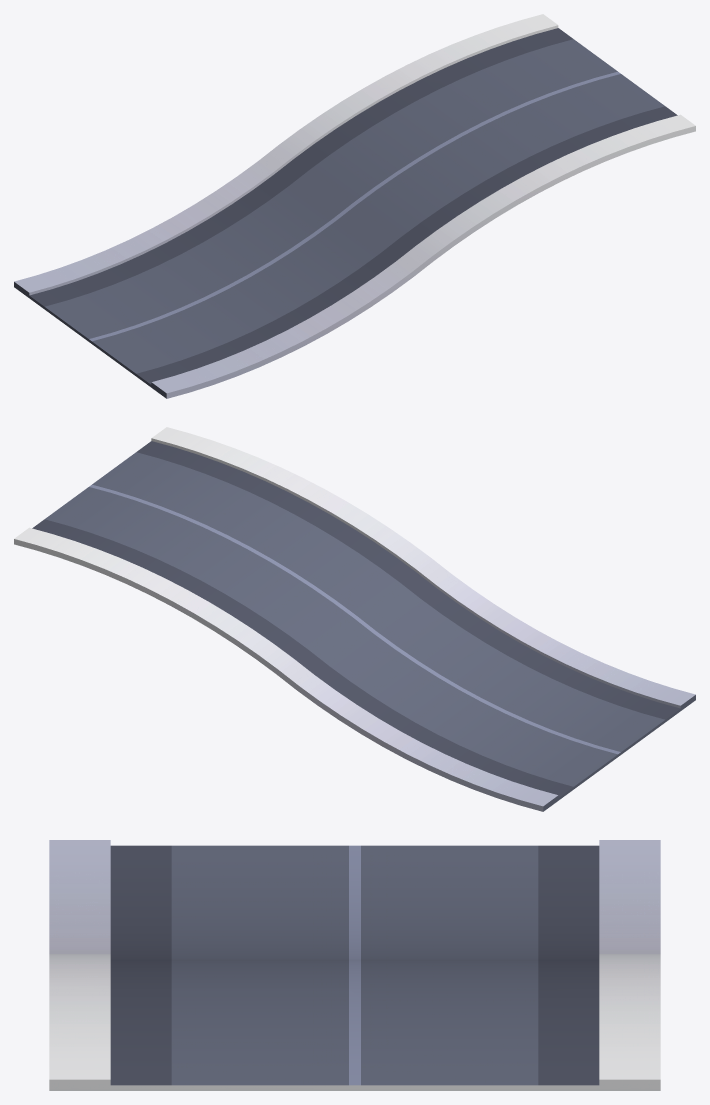
Rendered from road-slant-flat-curve.glb.
The picture shows the model from 3 angles, top to bottom: view 1: azimuth 30°, elevation 25°; view 2: azimuth 150°, elevation 25°; view 3: azimuth 270°, elevation 25°; orthographic projection. The views are drawn at different scales.
Parts seen in each view (by area): view 1: road-slant-flat-curve; view 2: road-slant-flat-curve; view 3: road-slant-flat-curve.
Part boxes in pixels (<box>): road-slant-flat-curve: <box>14,14,695,398</box>; road-slant-flat-curve: <box>14,427,695,811</box>; road-slant-flat-curve: <box>49,840,660,1090</box>.
Bounding box in the file's own units: 2 × 0.5201 × 1.
1 material, 1 textured.
